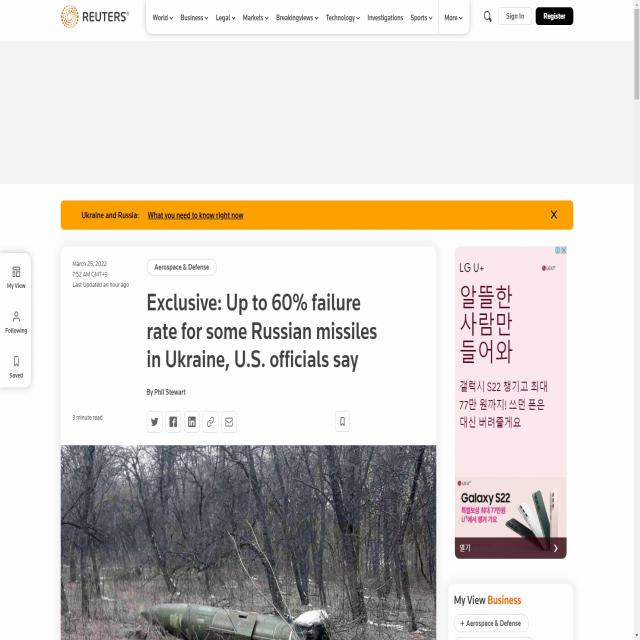menu-bar: (478, 2, 577, 31)
